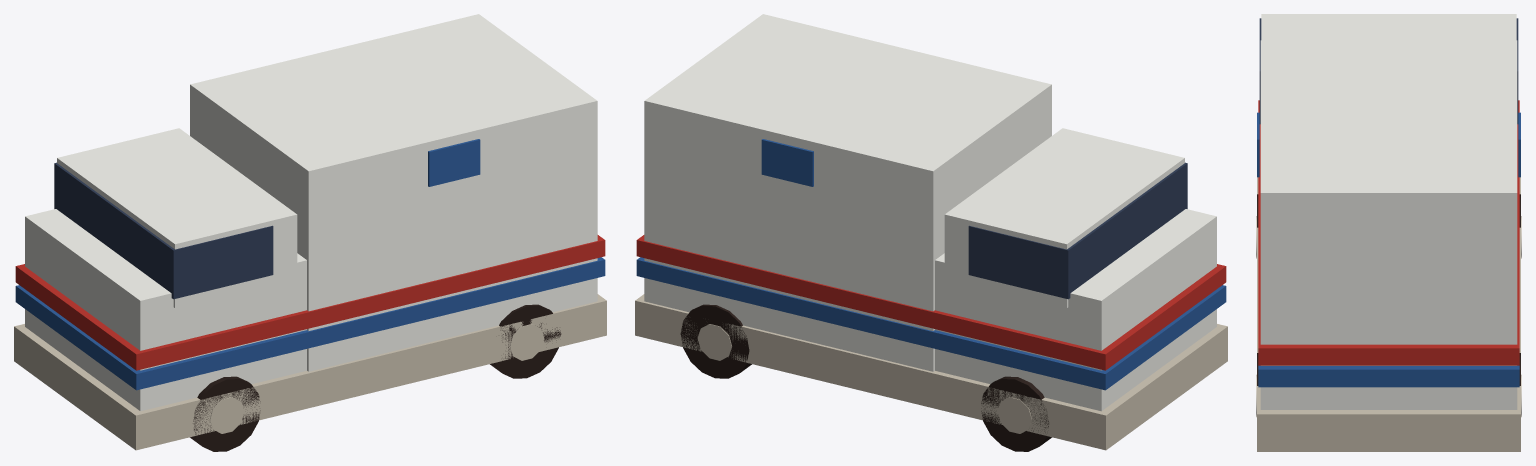
The model's file is mail_truck.glb.
3 renders of one model, left to right at view 1: azimuth 30°, elevation 25°; view 2: azimuth 150°, elevation 25°; view 3: azimuth 270°, elevation 25°, orthographic. The views are drawn at different scales.
Visible parts, largest first — view 1: Box1, Box2, Box7, Box3, Box5, Box6, Box4, Part4, Part2, Box9; view 2: Box1, Box2, Box7, Box3, Box5, Box6, Box4, Part1, Part3, Box8; view 3: Box1, Box7, Box5, Box3, Box6, Box4.
Boxes of the visible parts, x1,y1,x2,y2 form: Box1: (190, 14, 597, 371); Box2: (25, 209, 306, 411); Box7: (14, 294, 606, 450); Box3: (57, 128, 297, 308); Box5: (15, 235, 605, 370); Box6: (15, 257, 605, 390); Box4: (54, 162, 273, 299); Part4: (190, 376, 260, 451); Part2: (490, 304, 561, 378); Box9: (428, 139, 480, 186); Box1: (644, 14, 1051, 371); Box2: (935, 209, 1216, 411); Box7: (635, 294, 1227, 450); Box3: (944, 128, 1184, 308); Box5: (636, 235, 1226, 370); Box6: (636, 257, 1226, 390); Box4: (968, 162, 1187, 299); Part1: (680, 304, 751, 378); Part3: (981, 376, 1051, 451); Box8: (761, 139, 813, 186); Box1: (1260, 40, 1517, 409); Box7: (1257, 177, 1520, 451); Box5: (1258, 100, 1519, 365); Box3: (1261, 14, 1516, 40); Box6: (1258, 365, 1519, 387); Box4: (1259, 18, 1518, 124).
Size of the model in its own units: 4.24 by 2.23 by 1.91.
